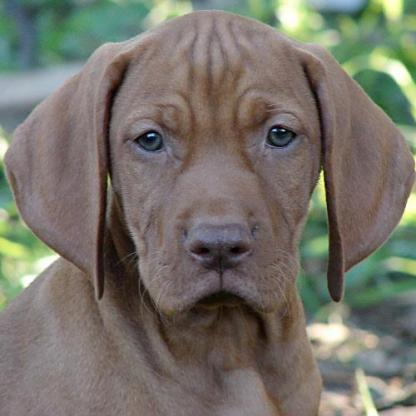vizsla: (0, 13, 414, 414)
